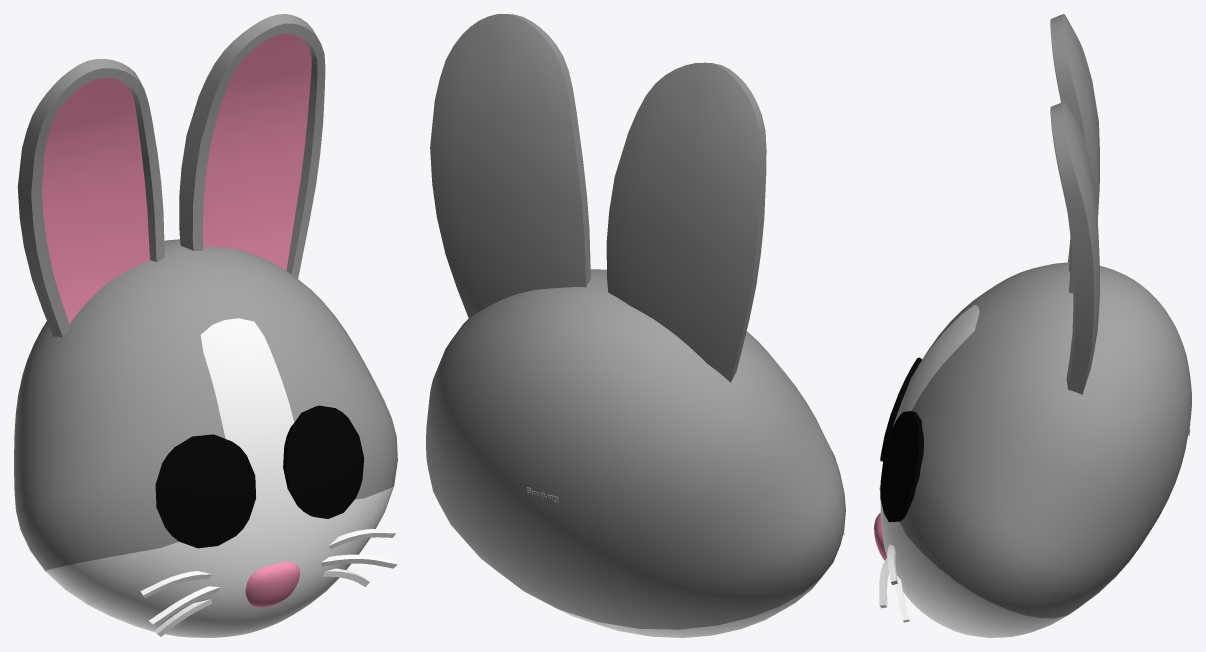
File: rabbit_face.fbx
The picture shows the model from 3 angles, left to right: view 1: azimuth 30°, elevation 25°; view 2: azimuth 150°, elevation 25°; view 3: azimuth 270°, elevation 25°; orthographic projection. The views are drawn at different scales.
Parts seen in each view (by area): view 1: Sphere.381, Cylinder.362, Circle.1918, Cube.6247, Cube.6246; view 2: Sphere.381, Cylinder.362; view 3: Sphere.381, Cylinder.362, Circle.1918, Cube.6247.
Part boxes in pixels (<box>): Sphere.381: <box>14,239,397,637</box>; Cylinder.362: <box>17,14,325,337</box>; Circle.1918: <box>155,405,364,548</box>; Cube.6247: <box>140,529,397,636</box>; Cube.6246: <box>245,561,299,607</box>; Sphere.381: <box>426,269,845,637</box>; Cylinder.362: <box>430,14,766,382</box>; Sphere.381: <box>880,262,1191,637</box>; Cylinder.362: <box>1050,14,1099,394</box>; Circle.1918: <box>880,357,923,522</box>; Cube.6247: <box>879,487,909,622</box>.
Size of the model in its own units: 152 by 226 by 118.
Materials: 1 (1 with a texture image).
